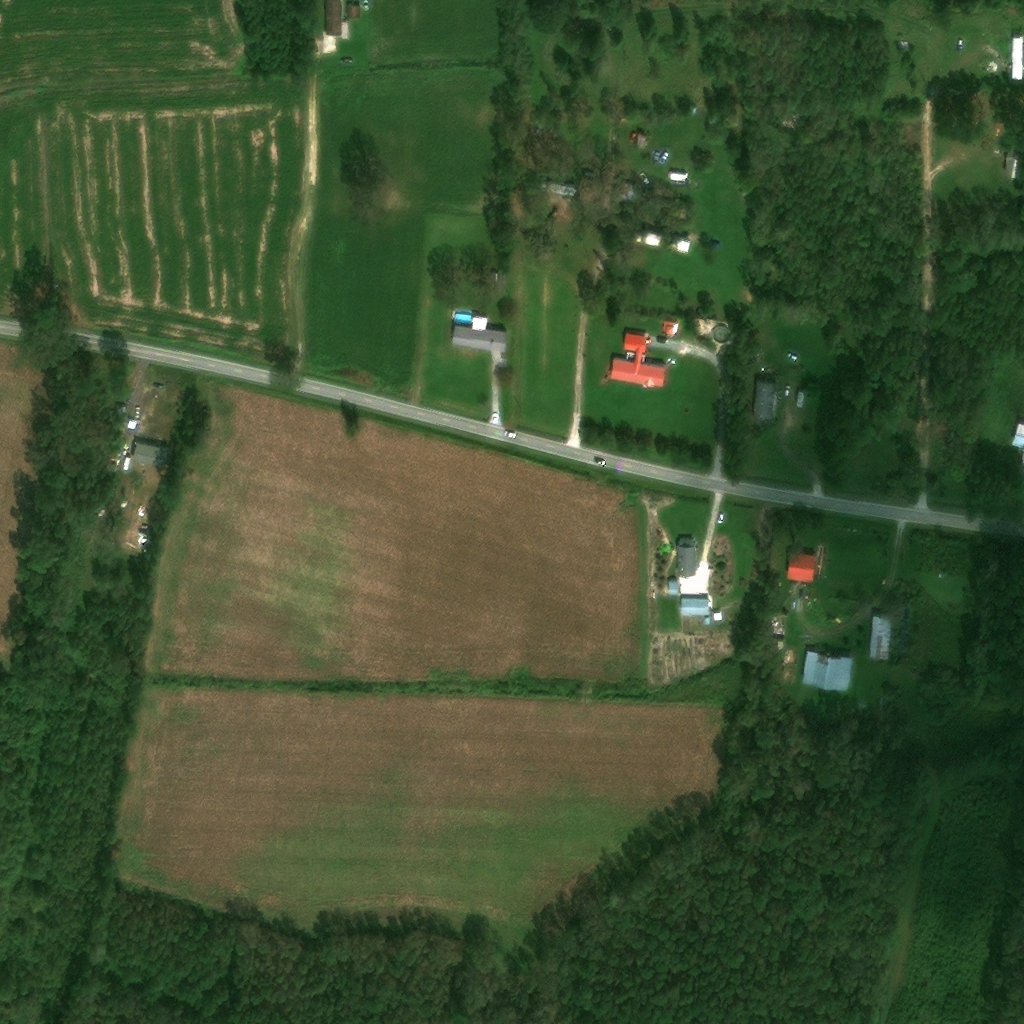no_damage: (609, 331, 667, 385), (803, 649, 852, 688), (449, 324, 508, 349), (635, 226, 690, 250), (867, 613, 893, 659), (750, 380, 779, 420), (132, 440, 170, 468), (785, 550, 816, 580), (675, 536, 698, 573), (764, 610, 789, 640), (1010, 35, 1024, 78), (323, 0, 340, 35), (1013, 422, 1024, 470), (679, 597, 708, 615), (542, 181, 575, 194), (491, 272, 506, 297), (662, 321, 679, 335), (346, 4, 361, 18), (470, 315, 485, 327), (666, 579, 677, 594), (547, 128, 557, 137), (530, 125, 539, 135), (713, 612, 721, 619), (705, 617, 711, 624)
